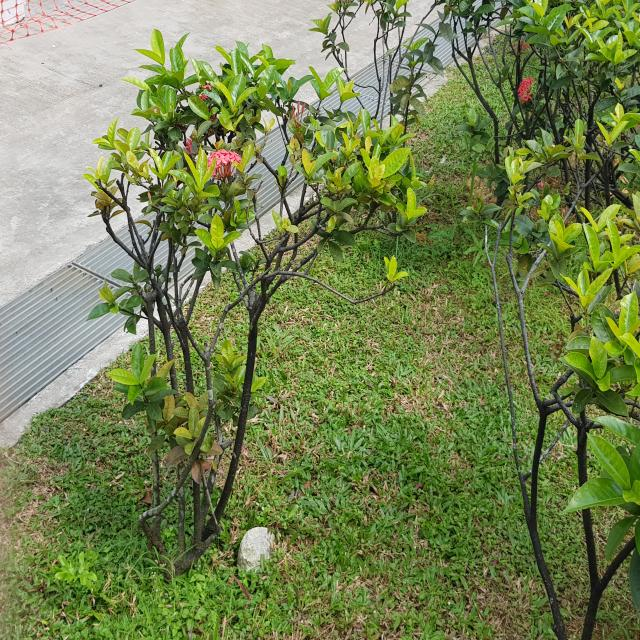Chinese-Ixora: (202, 145, 244, 190), (517, 74, 535, 106), (510, 38, 531, 56)
